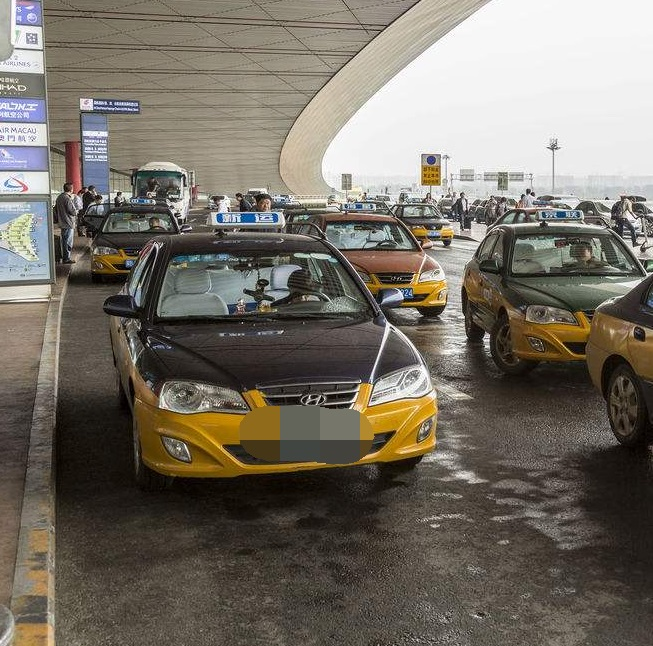taxi: (112, 210, 442, 490)
